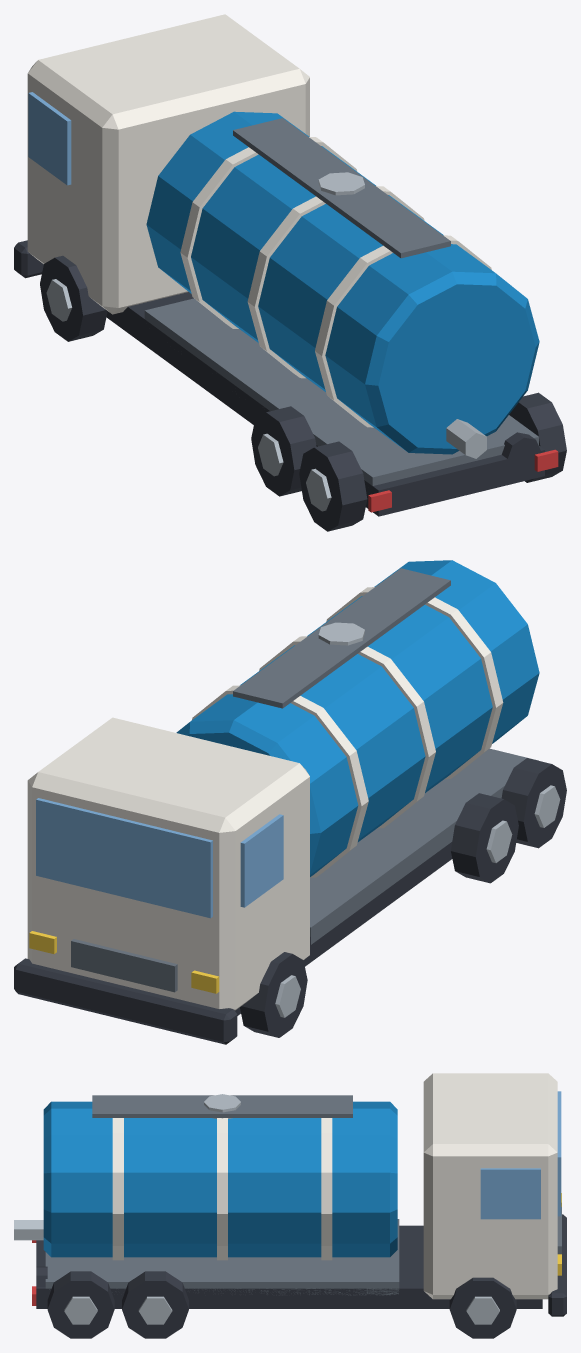
Rendered from caminhao_pipa.glb.
The picture shows the model from 3 angles, top to bottom: view 1: azimuth 30°, elevation 25°; view 2: azimuth 150°, elevation 25°; view 3: azimuth 270°, elevation 25°; orthographic projection. The views are drawn at different scales.
Parts seen in each view (by area): view 1: corpo; view 2: corpo; view 3: corpo.
Part boxes in pixels (x1,y1,x2,y2): corpo: [14, 14, 566, 531]; corpo: [14, 560, 566, 1044]; corpo: [14, 1073, 566, 1338].
Bounding box in the file's own units: 0.56 × 0.5756 × 1.48.
